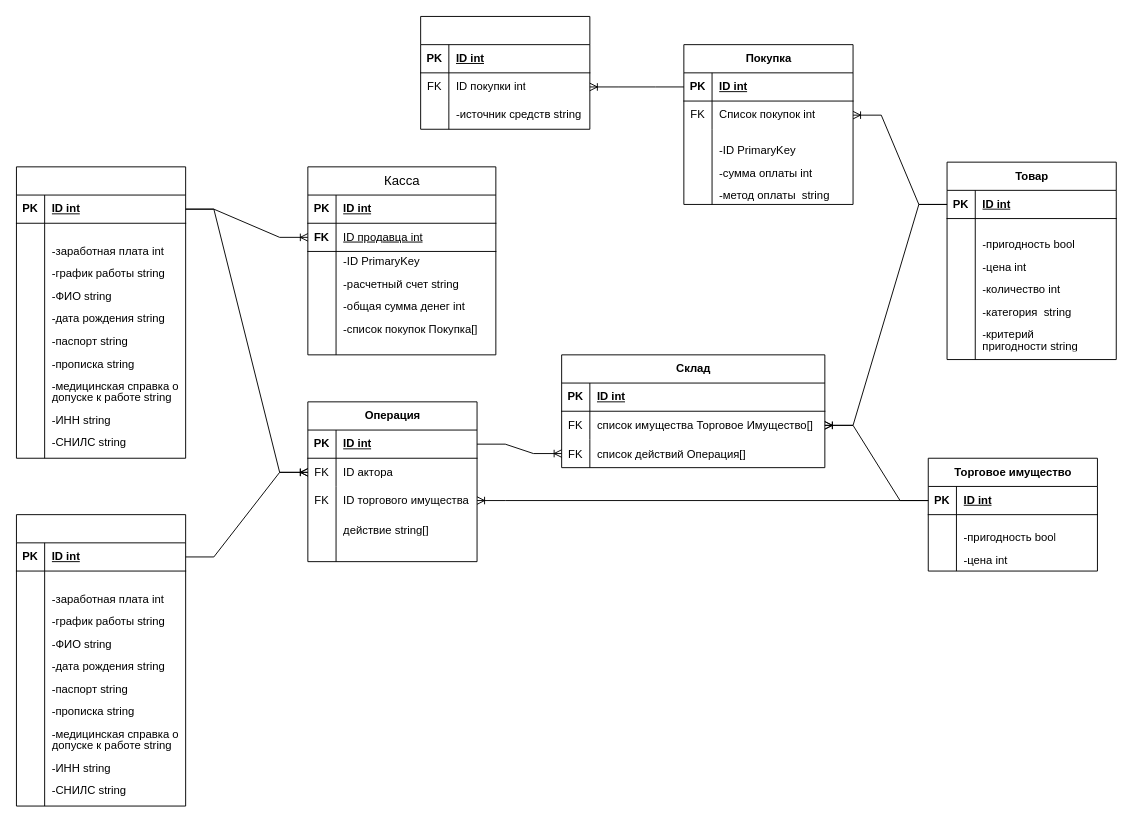
Some shapes in this 1133 by 823 pixel diagram are drawn without their labels. The shapes that lost their labels are listed below. From the top down, each one's box as (x1, y1, x2, y2) in pixels, then its label:
(420, 16, 590, 129): Покупатель
(16, 166, 186, 458): Продавец
(16, 514, 186, 806): Администратор
